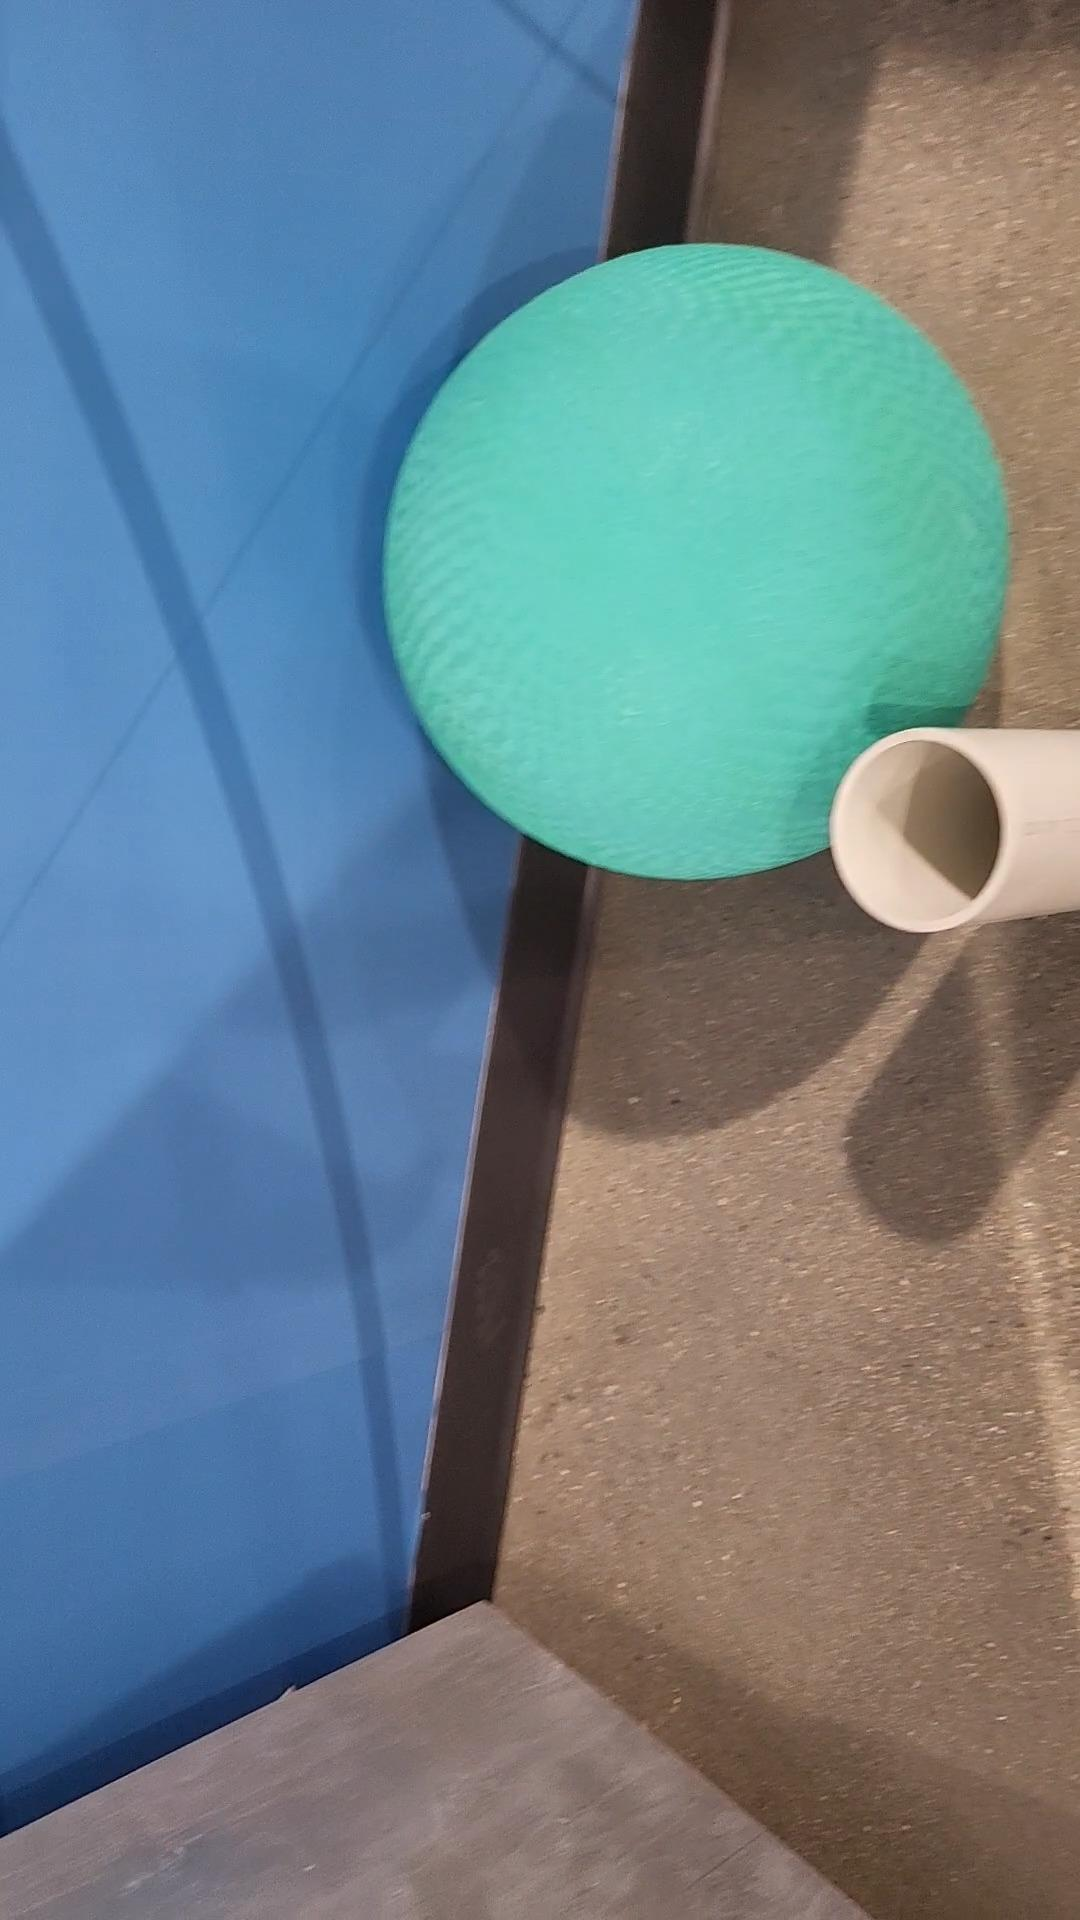algae: (385, 240, 1007, 877)
coral: (835, 731, 1079, 930)
